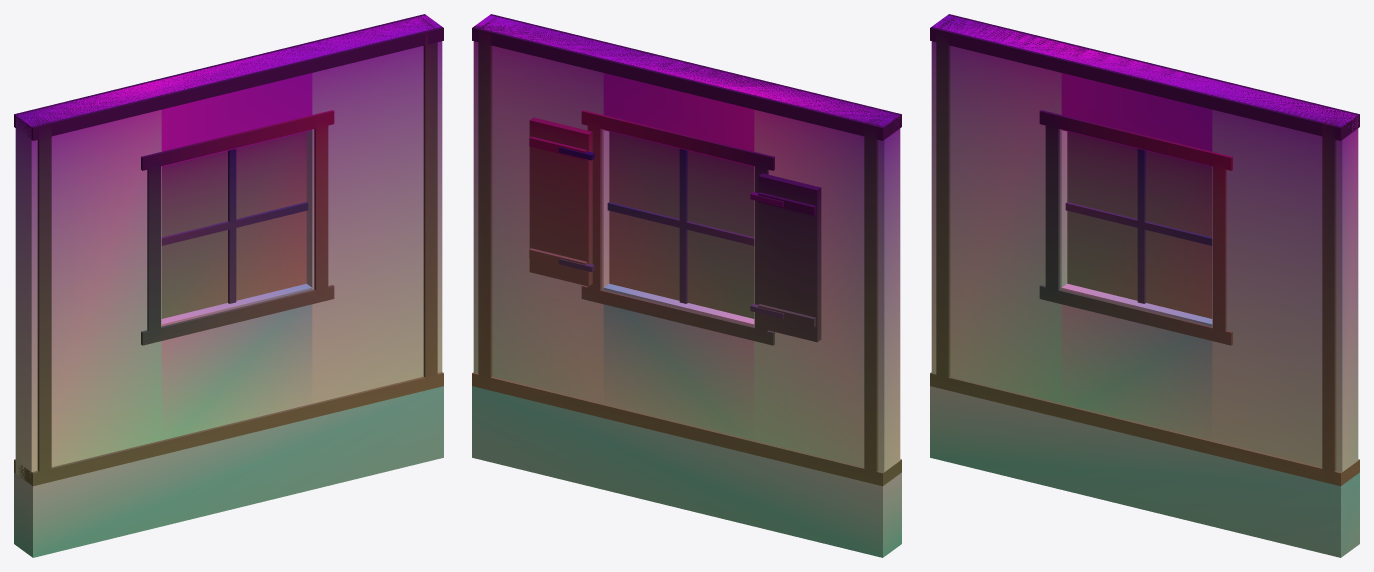
The model's file is burg_wall_3m_win.glb.
The picture shows the model from 3 angles, left to right: view 1: azimuth 30°, elevation 25°; view 2: azimuth 150°, elevation 25°; view 3: azimuth 330°, elevation 25°; orthographic projection.
Visible parts, largest first — view 1: plaster, timbers, base_course, pane, win_iron; view 2: plaster, timbers, base_course, pane, win_iron; view 3: plaster, timbers, base_course, pane, win_iron.
Part boxes in pixels (box(x1,y1,x2,y2)): plaster: box(15, 15, 442, 479); timbers: box(14, 14, 443, 486); base_course: box(14, 386, 443, 557); pane: box(161, 131, 306, 318); win_iron: box(161, 149, 308, 303); plaster: box(473, 15, 900, 472); timbers: box(472, 14, 901, 486); base_course: box(472, 386, 901, 557); pane: box(609, 131, 754, 318); win_iron: box(558, 147, 783, 318); plaster: box(931, 15, 1358, 472); timbers: box(930, 14, 1359, 486); base_course: box(930, 386, 1359, 557); pane: box(1067, 131, 1212, 318); win_iron: box(1065, 149, 1212, 303).
Bounding box in the file's own units: 3 × 3 × 0.322.
